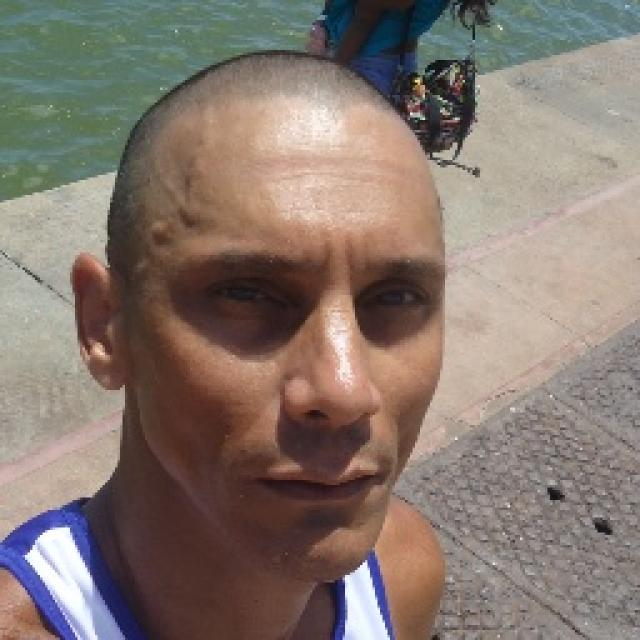earlobe: (96, 350, 130, 391)
eye: (362, 282, 427, 312), (207, 282, 283, 306)
nose: (289, 402, 394, 470)
wholeear: (70, 254, 130, 391)
